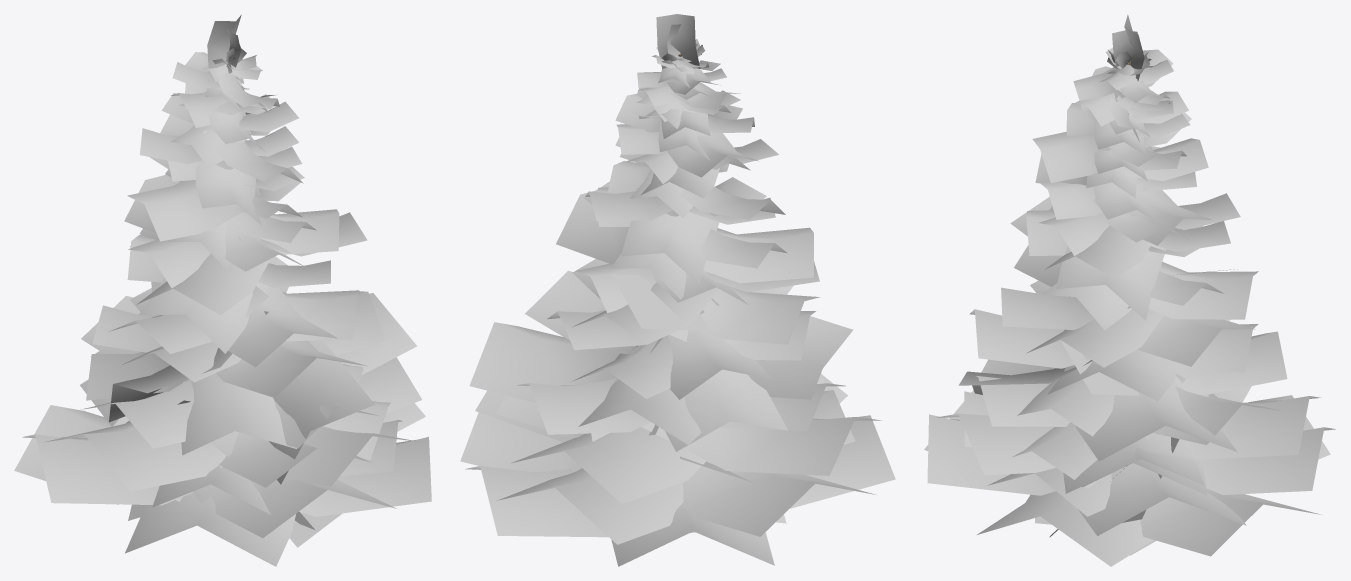
File: pine_tree_sway1.dae
The picture shows the model from 3 angles, left to right: view 1: azimuth 30°, elevation 25°; view 2: azimuth 150°, elevation 25°; view 3: azimuth 270°, elevation 25°; orthographic projection. The views are drawn at different scales.
Visible parts, largest first — view 1: Leaves, Branches; view 2: Leaves, Branches; view 3: Leaves, Branches.
Part boxes in pixels (x1,y1,x2,y2): Leaves: (14,14,431,566); Branches: (113,281,342,547); Leaves: (460,14,895,566); Branches: (591,274,786,533); Leaves: (924,14,1335,566); Branches: (1035,269,1237,555).
Bounding box in the file's own units: 340 × 442 × 329.
